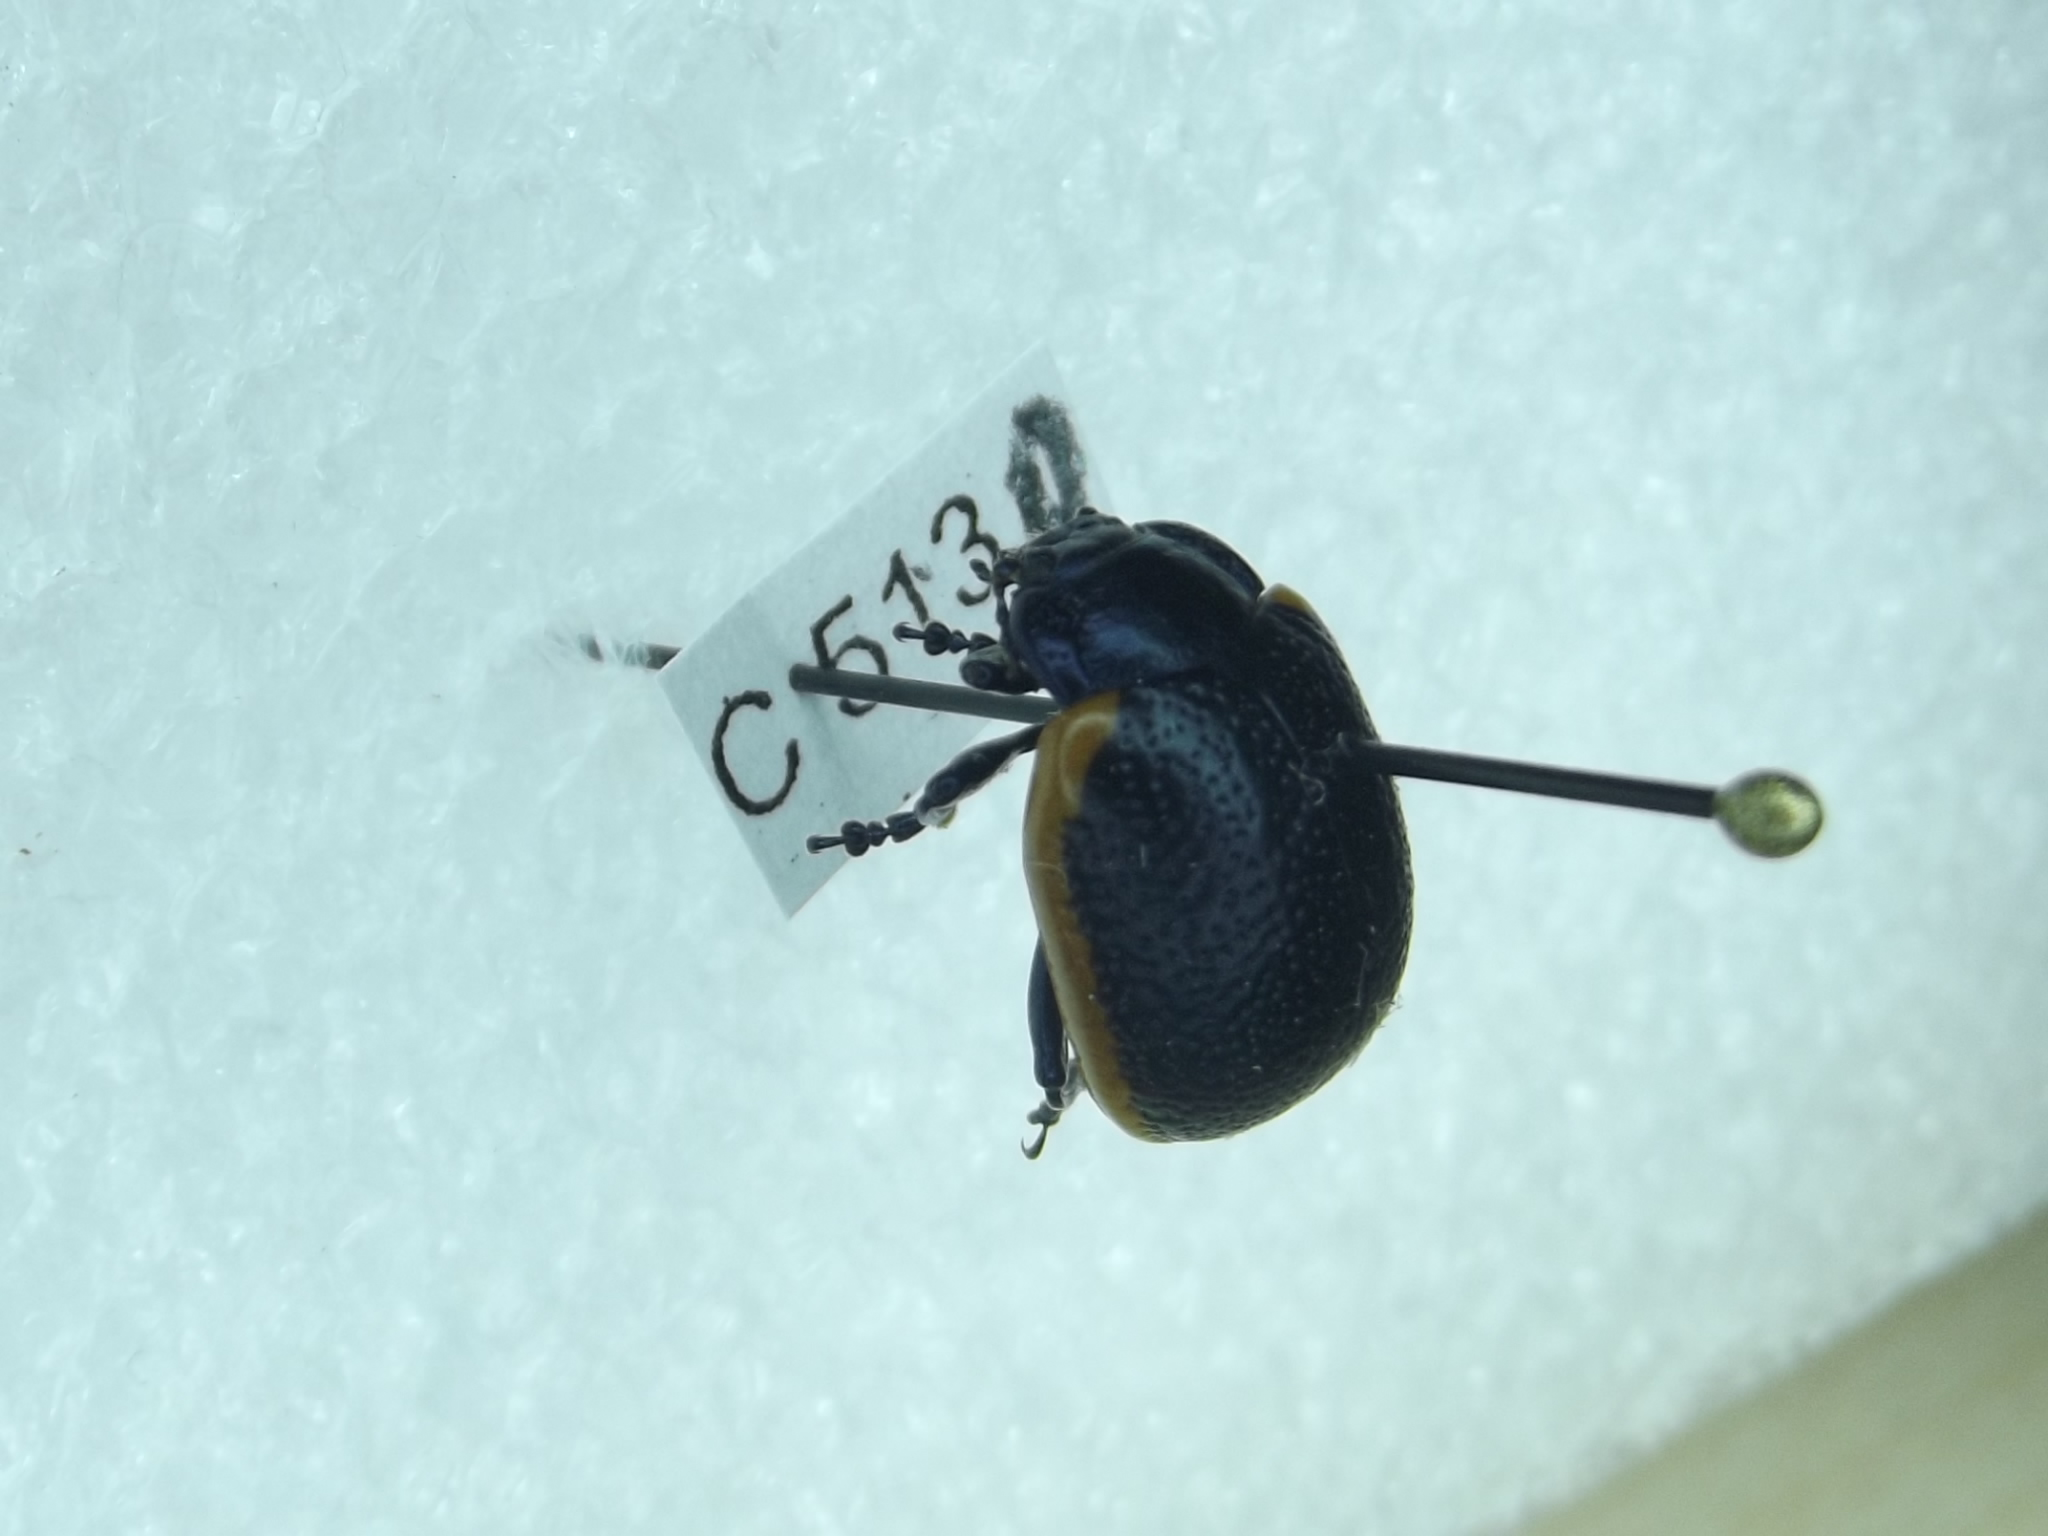Chrysolina_gypsophila: (798, 487, 1464, 1165)
